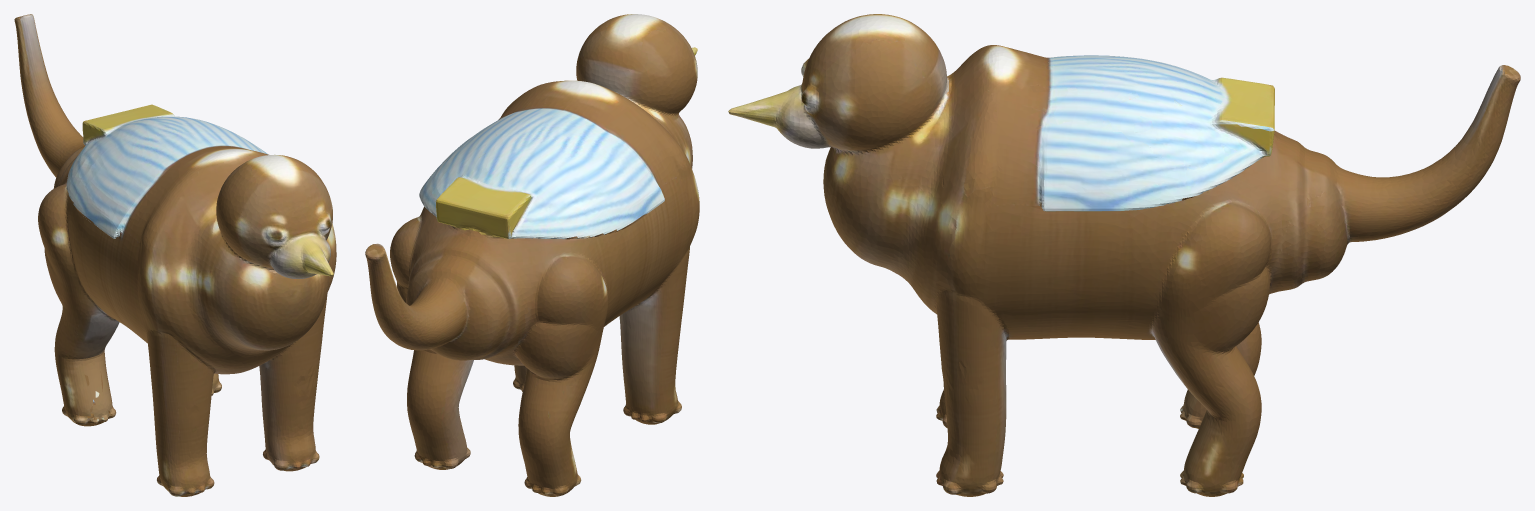
File: creature-063.glb
3 views of the same model, side by side, from view 1: azimuth 30°, elevation 25°; view 2: azimuth 150°, elevation 25°; view 3: azimuth 270°, elevation 25° (orthographic). The views are drawn at different scales.
Visible parts, largest first — view 1: tmpk6siilcz.ply; view 2: tmpk6siilcz.ply; view 3: tmpk6siilcz.ply.
Part boxes in pixels (x1,y1,x2,y2): tmpk6siilcz.ply: (14,14,336,496); tmpk6siilcz.ply: (365,14,699,496); tmpk6siilcz.ply: (728,14,1520,496).
Size of the model in its own units: 0.7125 by 1.22 by 1.99.
1 material, 1 textured.
